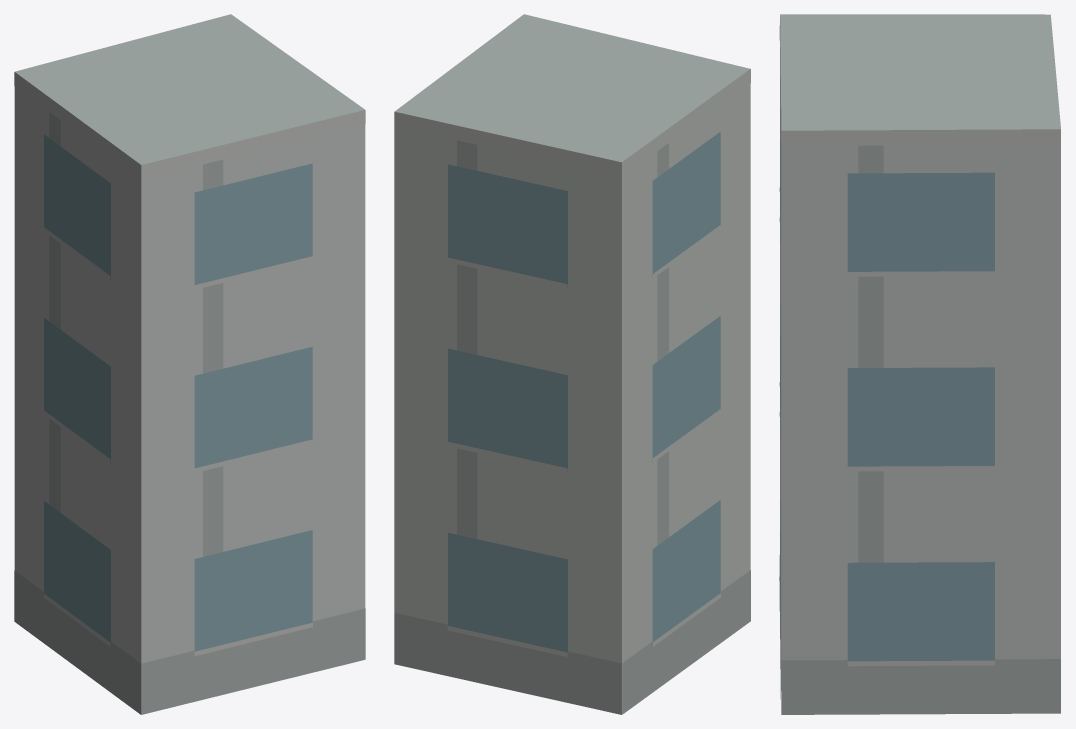
File: survey-upis-32542892.glb
3 views of the same model, side by side, from view 1: azimuth 30°, elevation 25°; view 2: azimuth 150°, elevation 25°; view 3: azimuth 270°, elevation 25° (orthographic). The views are drawn at different scales.
Parts seen in each view (by area): view 1: survey-upis-32542892.tmp; view 2: survey-upis-32542892.tmp; view 3: survey-upis-32542892.tmp.
Part boxes in pixels (x1,y1,x2,y2): survey-upis-32542892.tmp: (14, 14, 365, 714); survey-upis-32542892.tmp: (394, 14, 750, 714); survey-upis-32542892.tmp: (779, 14, 1060, 714).
Size of the model in its own units: 3.93 by 9.15 by 4.01.
